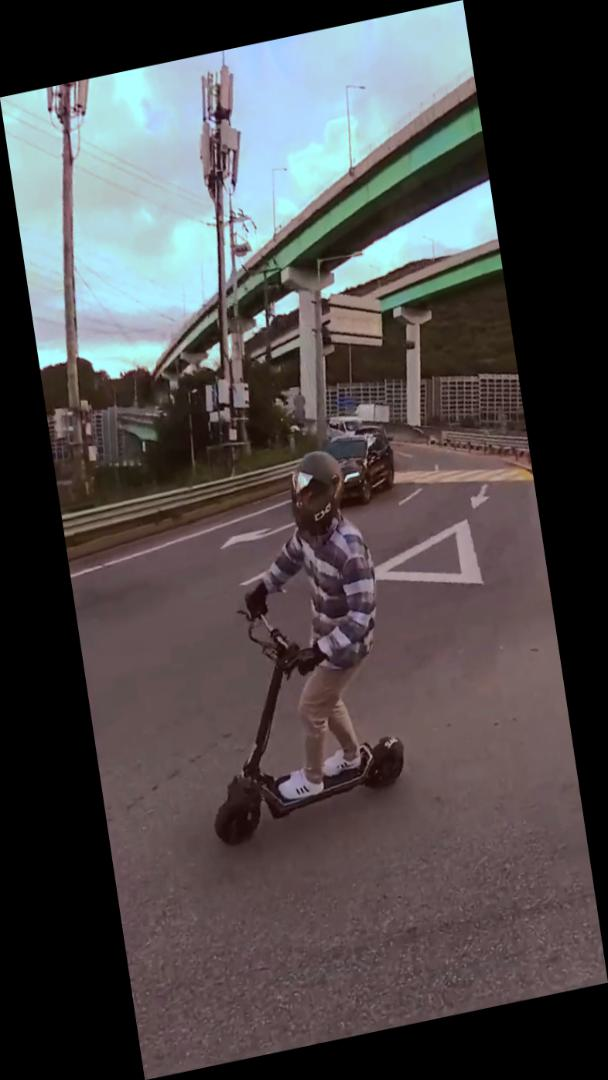helmet: (160, 438, 418, 855)
